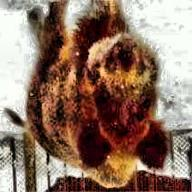boar: (25, 0, 165, 192)
